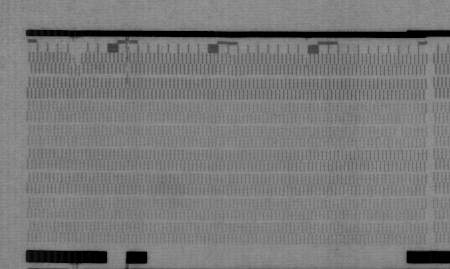Broken hole: (394, 126, 403, 137)
Oblique printing: (68, 51, 83, 67), (123, 64, 133, 79), (121, 53, 133, 65)
